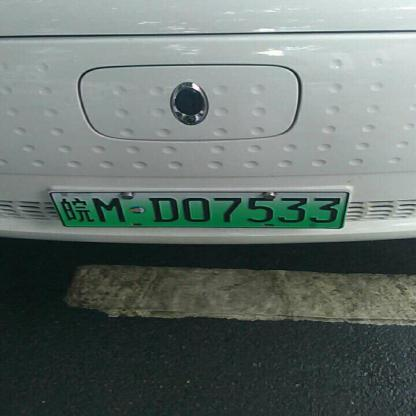lp: (49, 192, 65, 228)
